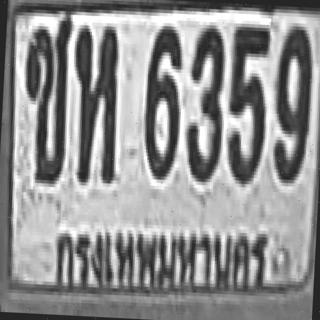A10: (19, 11, 71, 180)
A41: (69, 21, 121, 180)
N00: (270, 22, 313, 181)
N03: (183, 23, 225, 181)
N05: (225, 23, 269, 182)
N06: (141, 22, 182, 177)
N09: (270, 22, 313, 181)
P04: (45, 210, 280, 306)
